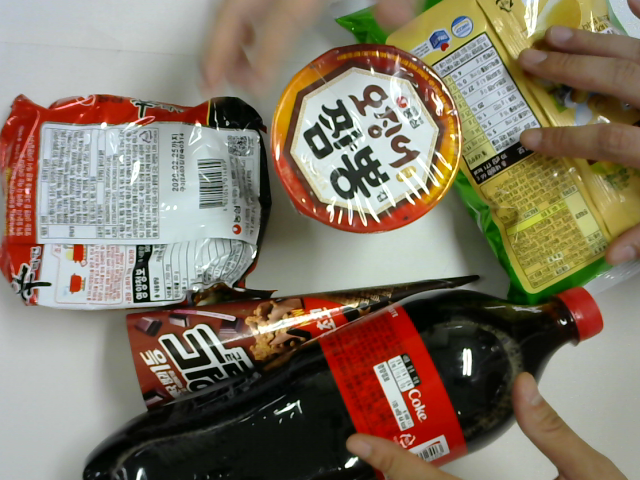Coca_Cola_1.5L: (80, 286, 609, 480)
Ojjam: (271, 43, 454, 231)
Pocachip_Onion: (345, 1, 639, 305)
Sinramen: (2, 95, 271, 301)
World_Cone_Choco: (128, 274, 478, 410)
